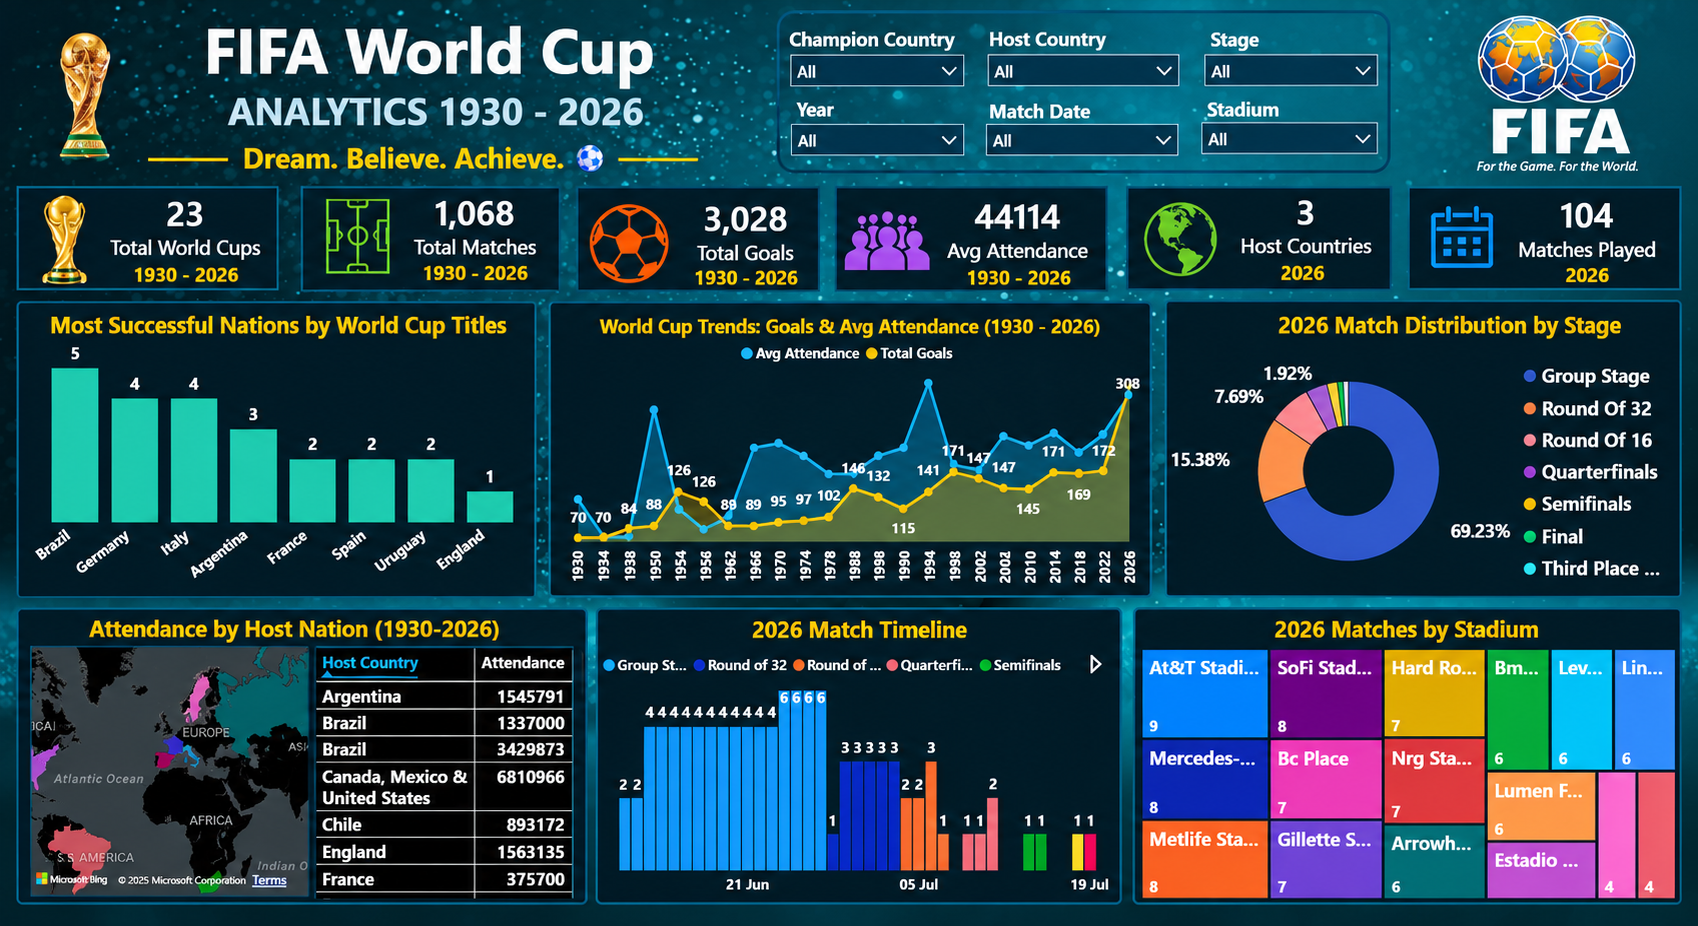

The page's visual inventory and layout, read from the dashboard file:
{"tool":"powerbi","page":{"name":"Page 1","canvas":[1465,800],"ordinal":0},"visuals":[{"type":"image","box":[2.7,0,143.4,162.2],"z":0},{"type":"image","box":[1226.5,9.4,225.2,140.8],"z":1000},{"type":"textbox","box":[69.7,1.3,600.5,91.2],"z":2000},{"type":"textbox","box":[191.7,68.4,392.8,56.3],"z":3000},{"type":"shape","box":[670.2,8,529.5,140.8],"z":4000},{"type":"textbox","box":[123.3,113.9,504,48.3],"z":5000},{"type":"shape","box":[260.1,160.9,222.5,88.5],"z":6000},{"type":"shape","box":[1215.8,160.9,234.6,87.1],"z":7000},{"type":"shape","box":[14.7,160.9,225.2,88.5],"z":8000},{"type":"shape","box":[497.3,160.9,209.1,88.5],"z":9000},{"type":"shape","box":[721.2,160.9,234.6,89.8],"z":10000},{"type":"shape","box":[973.2,160.9,226.5,87.1],"z":11000},{"type":"image","box":[16.1,163.5,85.8,85.8],"z":12000},{"type":"image","box":[254.7,160.9,109.9,88.5],"z":13000},{"type":"image","box":[497.3,168.9,87.1,83.1],"z":14000},{"type":"image","box":[721.2,168.9,87.1,84.5],"z":15000},{"type":"image","box":[1215.8,171.6,93.8,67],"z":16000},{"type":"image","box":[973.2,167.6,88.5,76.4],"z":17000},{"type":"cardVisual","fields":{"Data":["Measure.Total World Cups"]},"box":[79.1,163.5,160.9,60.3],"z":18000},{"type":"cardVisual","fields":{"Data":["Measure.Total Matches"]},"box":[335.1,160.9,147.5,63],"z":19000},{"type":"cardVisual","fields":{"Data":["Measure.Total Goals"]},"box":[577.8,167.6,128.7,63],"z":20000},{"type":"cardVisual","fields":{"Data":["Measure.Avg Attendance"]},"box":[798.9,163.5,156.8,64.3],"z":21000},{"type":"cardVisual","fields":{"Data":["Measure.Host Countries"]},"box":[1053.6,162.2,146.1,59],"z":22000},{"type":"cardVisual","fields":{"Data":["Measure.Scheduled Matches"]},"box":[1290.9,163.5,156.8,63],"z":23000},{"type":"textbox","box":[101.9,219.8,115.3,33.5],"z":24000},{"type":"textbox","box":[353.9,217.2,109.9,34.9],"z":25000},{"type":"textbox","box":[583.1,222.5,119.3,32.2],"z":26000},{"type":"textbox","box":[817.7,222.5,120.6,32.2],"z":27000},{"type":"textbox","box":[1079.1,218.5,85.8,37.5],"z":28000},{"type":"textbox","box":[1331.1,219.8,77.7,32.2],"z":29000},{"type":"shape","box":[14.7,261.4,449.1,256],"z":30000},{"type":"shape","box":[473.3,260.8,520.3,255],"z":31000},{"type":"shape","box":[1005.7,256.8,446.4,260],"z":32000},{"type":"shape","box":[14.7,526.8,493.3,256],"z":33000},{"type":"shape","box":[514.7,525.5,453.1,257.4],"z":34000},{"type":"shape","box":[977.2,525.5,474.5,257.4],"z":35000},{"type":"columnChart","fields":{"Category":["Historical Win.Champion Current Country"],"Y":["CountNonNull(Historical Win.Champion)"]},"box":[25.5,284.2,438.3,227.9],"z":36000},{"type":"textbox","box":[37.5,261.4,403.5,38.9],"z":37000},{"type":"areaChart","fields":{"Category":["Historical Win.Year"],"Y":["Measure.Avg Attendance"],"Y2":["Measure.Total Goals"]},"box":[482.7,290.4,499,219.2],"z":38000},{"type":"textbox","box":[502.7,270.8,459.8,40.2],"z":39000},{"type":"textbox","box":[1054.1,260.8,394.1,38.9],"z":40000},{"type":"donutChart","fields":{"Category":["FIFA_WC2026_Match_Schedule.Stage"],"Y":["Measure.Matches Played"]},"box":[1012.1,300.3,433,213.1],"z":41000},{"type":"filledMap","fields":{"Category":["Historical Win.Host Country"],"Series":["Historical Win.Attendance"]},"box":[25.5,556.3,241.3,217.2],"z":42000},{"type":"tableEx","fields":{"Values":["Historical Win.Host Country","Historical Win.Attendance"]},"box":[265.4,556.3,242.6,226.5],"z":43000},{"type":"textbox","box":[55,525.5,398.1,40.2],"z":44000},{"type":"columnChart","fields":{"Category":["FIFA_WC2026_Match_Schedule.Match_Date"],"Series":["Dim Stage.Stage"],"Y":["Measure.Matches Played"]},"box":[514.7,556.3,448,226.5],"z":45000},{"type":"textbox","box":[538.9,526.8,403.5,38.9],"z":46000},{"type":"treemap","fields":{"Group":["FIFA_WC2026_Match_Schedule.Stadium"],"Values":["Measure.Matches Played"]},"box":[981.2,557.6,470,225],"z":47000},{"type":"textbox","box":[1002.7,525.5,423.6,38.9],"z":48000},{"type":"textbox","box":[1040.2,18.8,91.2,32.2],"z":49000},{"type":"slicer","fields":{"Values":["Historical Win.Champion"]},"box":[671.6,37.5,170.2,41.6],"z":50000},{"type":"textbox","box":[675.6,18.8,167.6,36.2],"z":51000},{"type":"textbox","box":[682.3,77.7,53.6,32.2],"z":52000},{"type":"slicer","fields":{"Values":["Historical Win.Year"]},"box":[671.6,96.5,170.2,41.6],"z":53000},{"type":"textbox","box":[848.5,16.1,124.7,37.5],"z":54000},{"type":"slicer","fields":{"Values":["Historical Win.Host Country"]},"box":[841.8,36.2,186.3,38.9],"z":55000},{"type":"textbox","box":[848.5,79.1,103.2,33.5],"z":56000},{"type":"slicer","fields":{"Values":["FIFA_WC2026_Match_Schedule.Match_Date"]},"box":[840.5,96.5,186.3,44.2],"z":57000},{"type":"slicer","fields":{"Values":["Dim Stage.Stage"]},"box":[1029.5,36.2,170.2,38.9],"z":58000},{"type":"textbox","box":[1037.5,76.4,83.1,32.2],"z":59000},{"type":"slicer","fields":{"Values":["FIFA_WC2026_Match_Schedule.Stadium"]},"box":[1026.8,93.8,172.9,42.9],"z":60000}]}

Visuals, with their boxes in screenshot pixels (x1, y1, x2, y2), scaled from the page's 1465x800 canvas onto the 1698x926 screenshot:
image: box(3, 0, 169, 188)
image: box(1422, 11, 1683, 174)
textbox: box(81, 2, 777, 107)
textbox: box(222, 79, 677, 144)
shape: box(777, 9, 1391, 172)
textbox: box(143, 132, 727, 188)
shape: box(301, 186, 559, 289)
shape: box(1409, 186, 1681, 287)
shape: box(17, 186, 278, 289)
shape: box(576, 186, 819, 289)
shape: box(836, 186, 1108, 290)
shape: box(1128, 186, 1391, 287)
image: box(19, 189, 118, 289)
image: box(295, 186, 423, 289)
image: box(576, 196, 677, 292)
image: box(836, 196, 937, 293)
image: box(1409, 199, 1518, 276)
image: box(1128, 194, 1231, 282)
cardVisual - Measure.Total World Cups: box(92, 189, 278, 259)
cardVisual - Measure.Total Matches: box(388, 186, 559, 259)
cardVisual - Measure.Total Goals: box(670, 194, 819, 267)
cardVisual - Measure.Avg Attendance: box(926, 189, 1108, 264)
cardVisual - Measure.Host Countries: box(1221, 188, 1391, 256)
cardVisual - Measure.Scheduled Matches: box(1496, 189, 1678, 262)
textbox: box(118, 254, 252, 293)
textbox: box(410, 251, 538, 292)
textbox: box(676, 258, 814, 295)
textbox: box(948, 258, 1088, 295)
textbox: box(1251, 253, 1350, 296)
textbox: box(1543, 254, 1633, 292)
shape: box(17, 303, 538, 599)
shape: box(549, 302, 1152, 597)
shape: box(1166, 297, 1683, 598)
shape: box(17, 610, 589, 906)
shape: box(597, 608, 1122, 906)
shape: box(1133, 608, 1683, 906)
columnChart - Historical Win.Champion Current Country x CountNonNull(Historical Win.Champion): box(30, 329, 538, 593)
textbox: box(43, 303, 511, 348)
areaChart - Historical Win.Year x Measure.Avg Attendance: box(559, 336, 1138, 590)
textbox: box(583, 313, 1116, 360)
textbox: box(1222, 302, 1679, 347)
donutChart - FIFA_WC2026_Match_Schedule.Stage x Measure.Matches Played: box(1173, 348, 1675, 594)
filledMap - Historical Win.Host Country x Historical Win.Attendance: box(30, 644, 309, 895)
tableEx - Historical Win.Host Country x Historical Win.Attendance: box(308, 644, 589, 906)
textbox: box(64, 608, 525, 655)
columnChart - FIFA_WC2026_Match_Schedule.Match_Date x Dim Stage.Stage: box(597, 644, 1116, 906)
textbox: box(625, 610, 1092, 655)
treemap - FIFA_WC2026_Match_Schedule.Stadium x Measure.Matches Played: box(1137, 645, 1682, 906)
textbox: box(1162, 608, 1653, 653)
textbox: box(1206, 22, 1311, 59)
slicer - Historical Win.Champion: box(778, 43, 976, 92)
textbox: box(783, 22, 977, 64)
textbox: box(791, 90, 853, 127)
slicer - Historical Win.Year: box(778, 112, 976, 160)
textbox: box(983, 19, 1128, 62)
slicer - Historical Win.Host Country: box(976, 42, 1192, 87)
textbox: box(983, 92, 1103, 130)
slicer - FIFA_WC2026_Match_Schedule.Match_Date: box(974, 112, 1190, 163)
slicer - Dim Stage.Stage: box(1193, 42, 1391, 87)
textbox: box(1203, 88, 1299, 126)
slicer - FIFA_WC2026_Match_Schedule.Stadium: box(1190, 109, 1391, 158)
